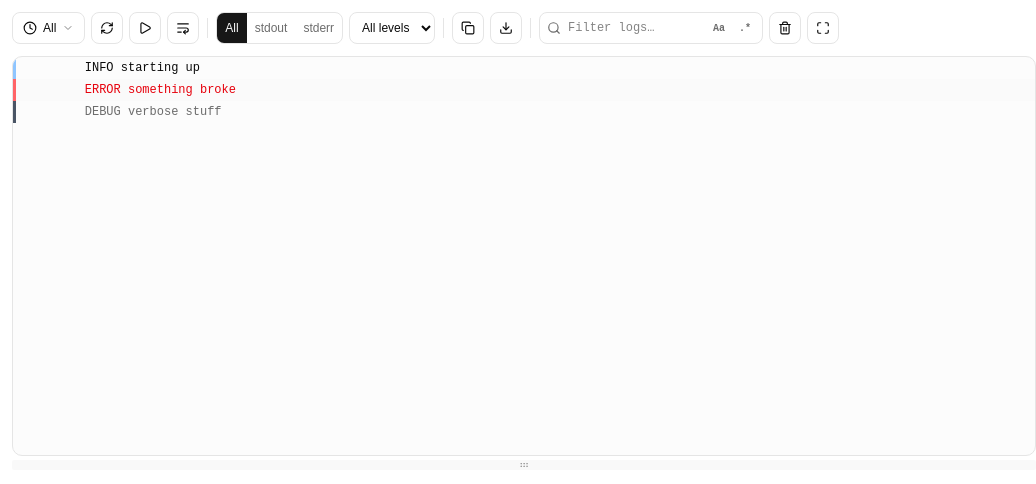
Test case: LogViewer › filters logs by level
The width and height of the screenshot is (1036, 484).
Expected: the text "INFO starting up" is shown, x1=85 y1=57 x2=1035 y2=79
Step 1. Select "Error" in the dropdown named "Filter by level" → [392, 28], box x1=349 y1=12 x2=435 y2=44
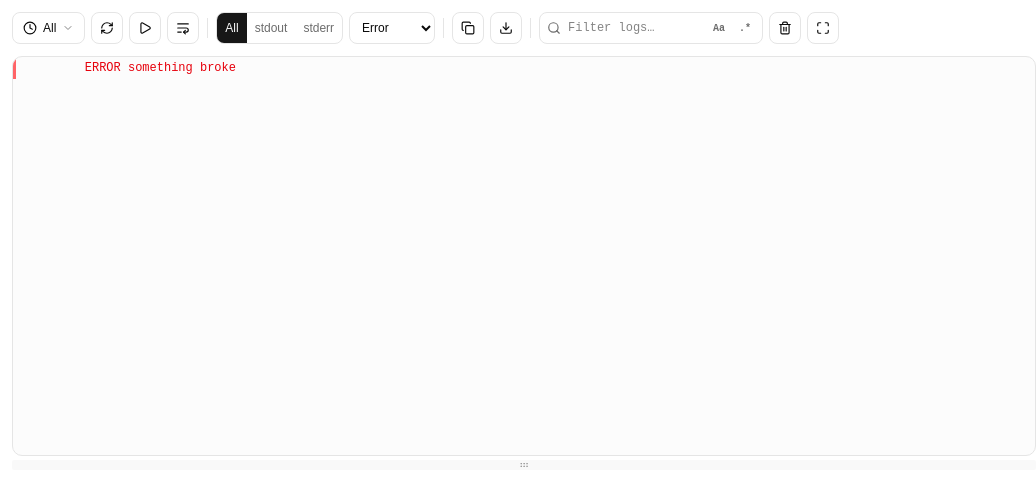
Expected: the text "ERROR something broke" is shown, x1=85 y1=61 x2=236 y2=75
Expected: the text "starting up" is gone
Expected: the text "verbose stuff" is gone
